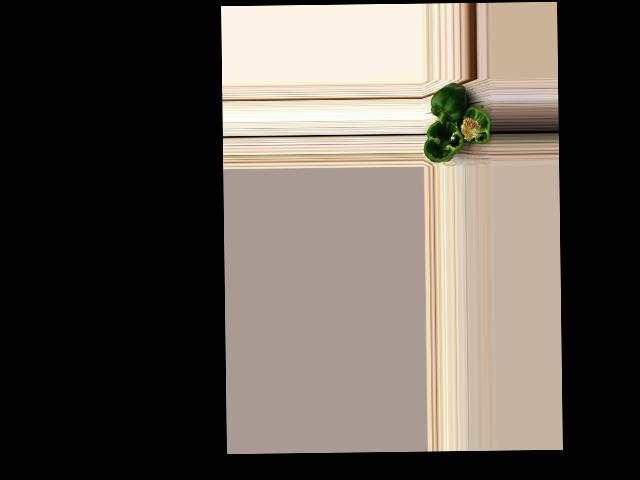bell_pepper: (457, 103, 491, 152)
